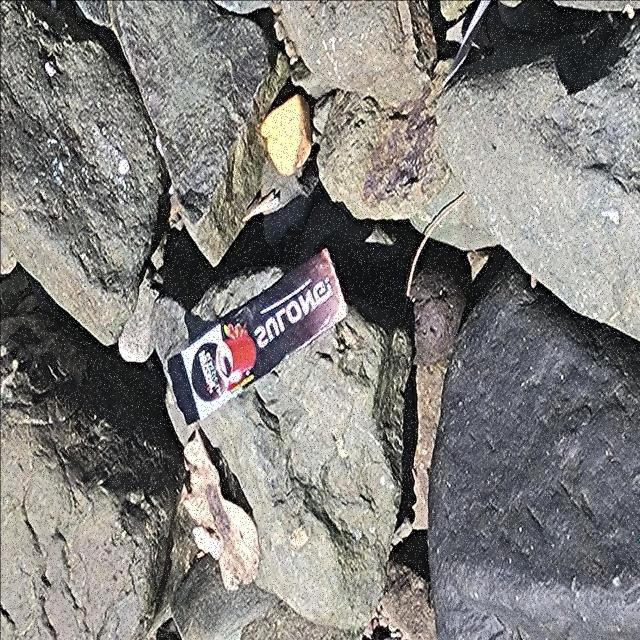plastic_waste: (166, 246, 350, 428)
